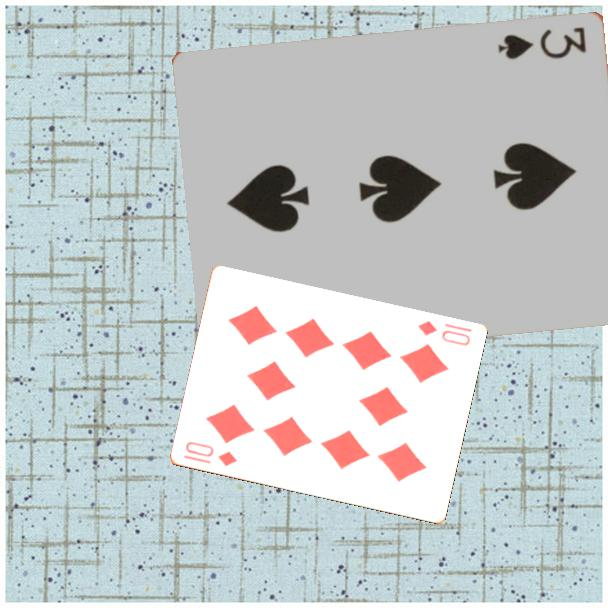d10: (414, 317, 475, 349), (181, 438, 239, 469)
s03: (495, 23, 590, 62)
